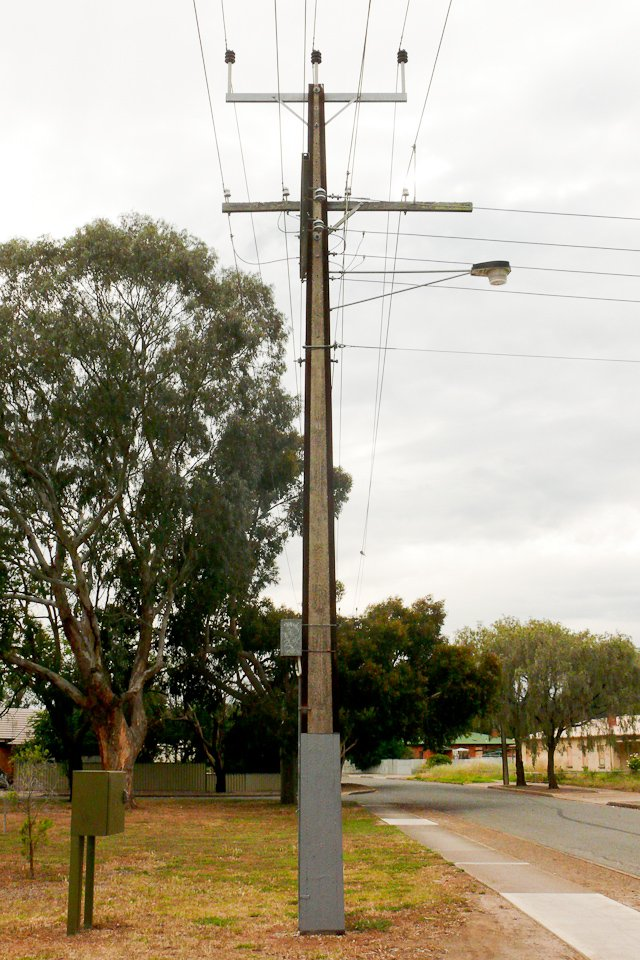pole: (195, 38, 517, 947)
